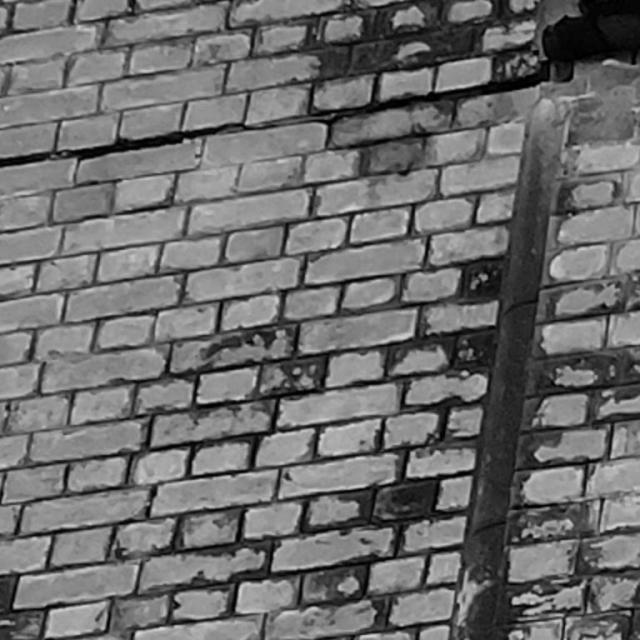crack: (1, 1, 640, 168)
